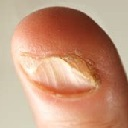Nail Fungal Infection: (53, 46, 110, 86)
